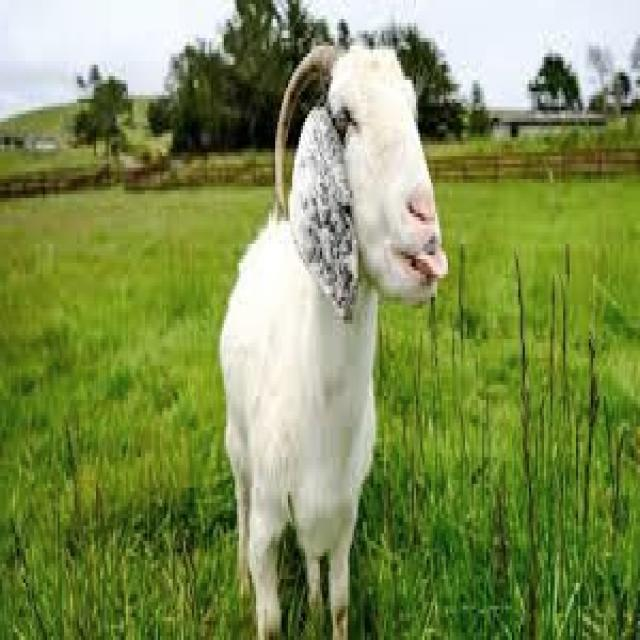goat: (224, 46, 448, 636)
